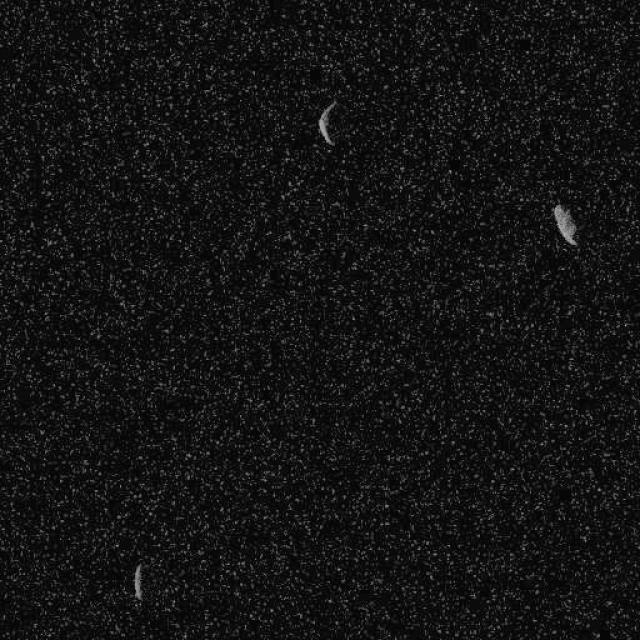D2: (551, 202, 579, 246), (316, 99, 339, 146), (132, 561, 144, 601)
